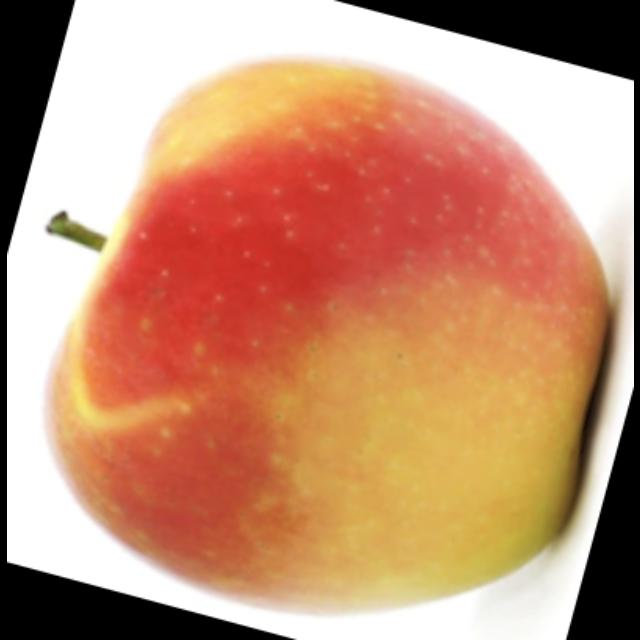Apel Segar: (26, 41, 622, 625)
